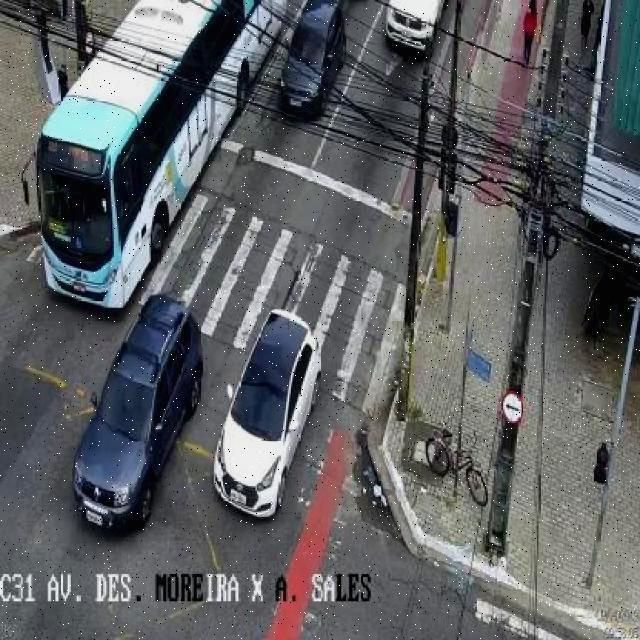Bus: (17, 0, 298, 317)
Car: (68, 295, 207, 538), (213, 308, 324, 522), (275, 1, 351, 119), (380, 0, 448, 59)
Cycle: (425, 427, 490, 511)
